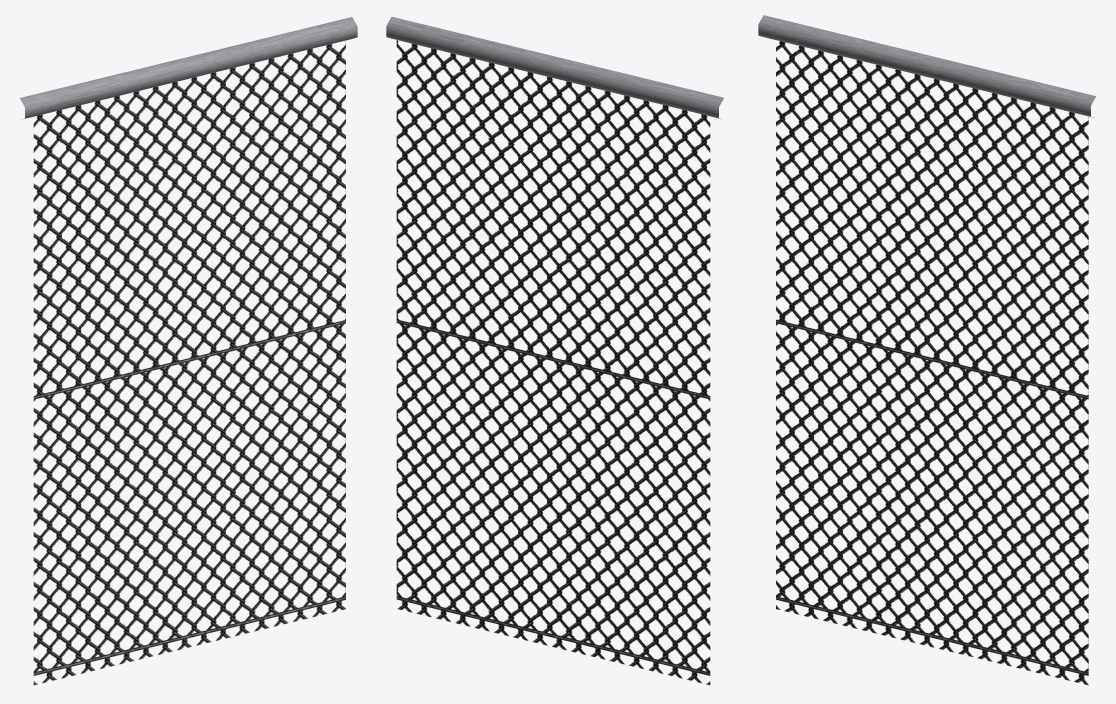
The model's file is fence-tall-chainlink-1rail-noPost-1m-cbj_LOD01.gltf.
The picture shows the model from 3 angles, left to right: view 1: azimuth 30°, elevation 25°; view 2: azimuth 150°, elevation 25°; view 3: azimuth 330°, elevation 25°; orthographic projection.
Parts seen in each view (by area): view 1: cube01; view 2: cube01; view 3: cube01.
Boxes of the visible parts, x1,y1,x2,y2 form: cube01: (20,17,357,685); cube01: (386,17,723,685); cube01: (758,15,1095,685).
Size of the model in its own units: 1.08 by 1.85 by 0.0591.
